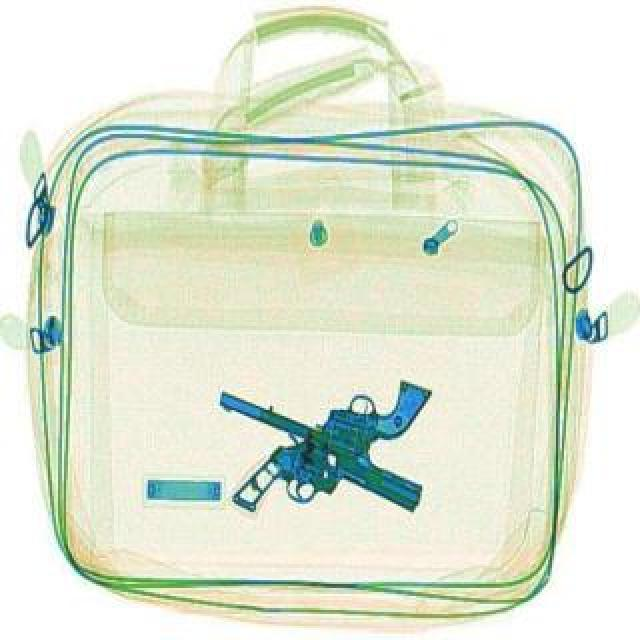gun: (214, 314, 432, 476), (228, 418, 424, 568)
